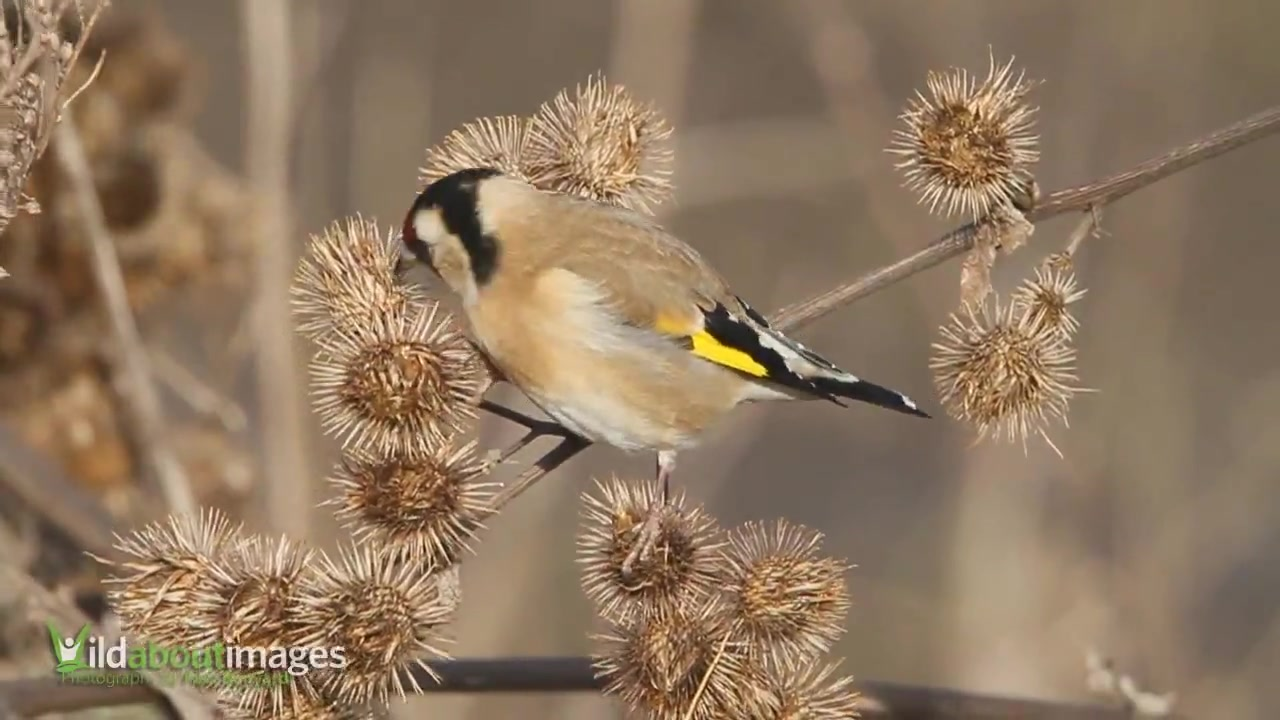bird: (395, 168, 933, 574)
